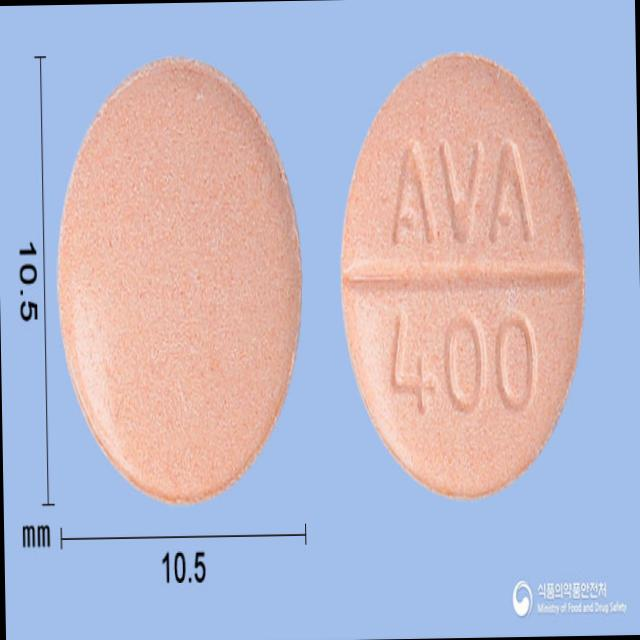Aclova 400mg: (335, 49, 591, 506)
